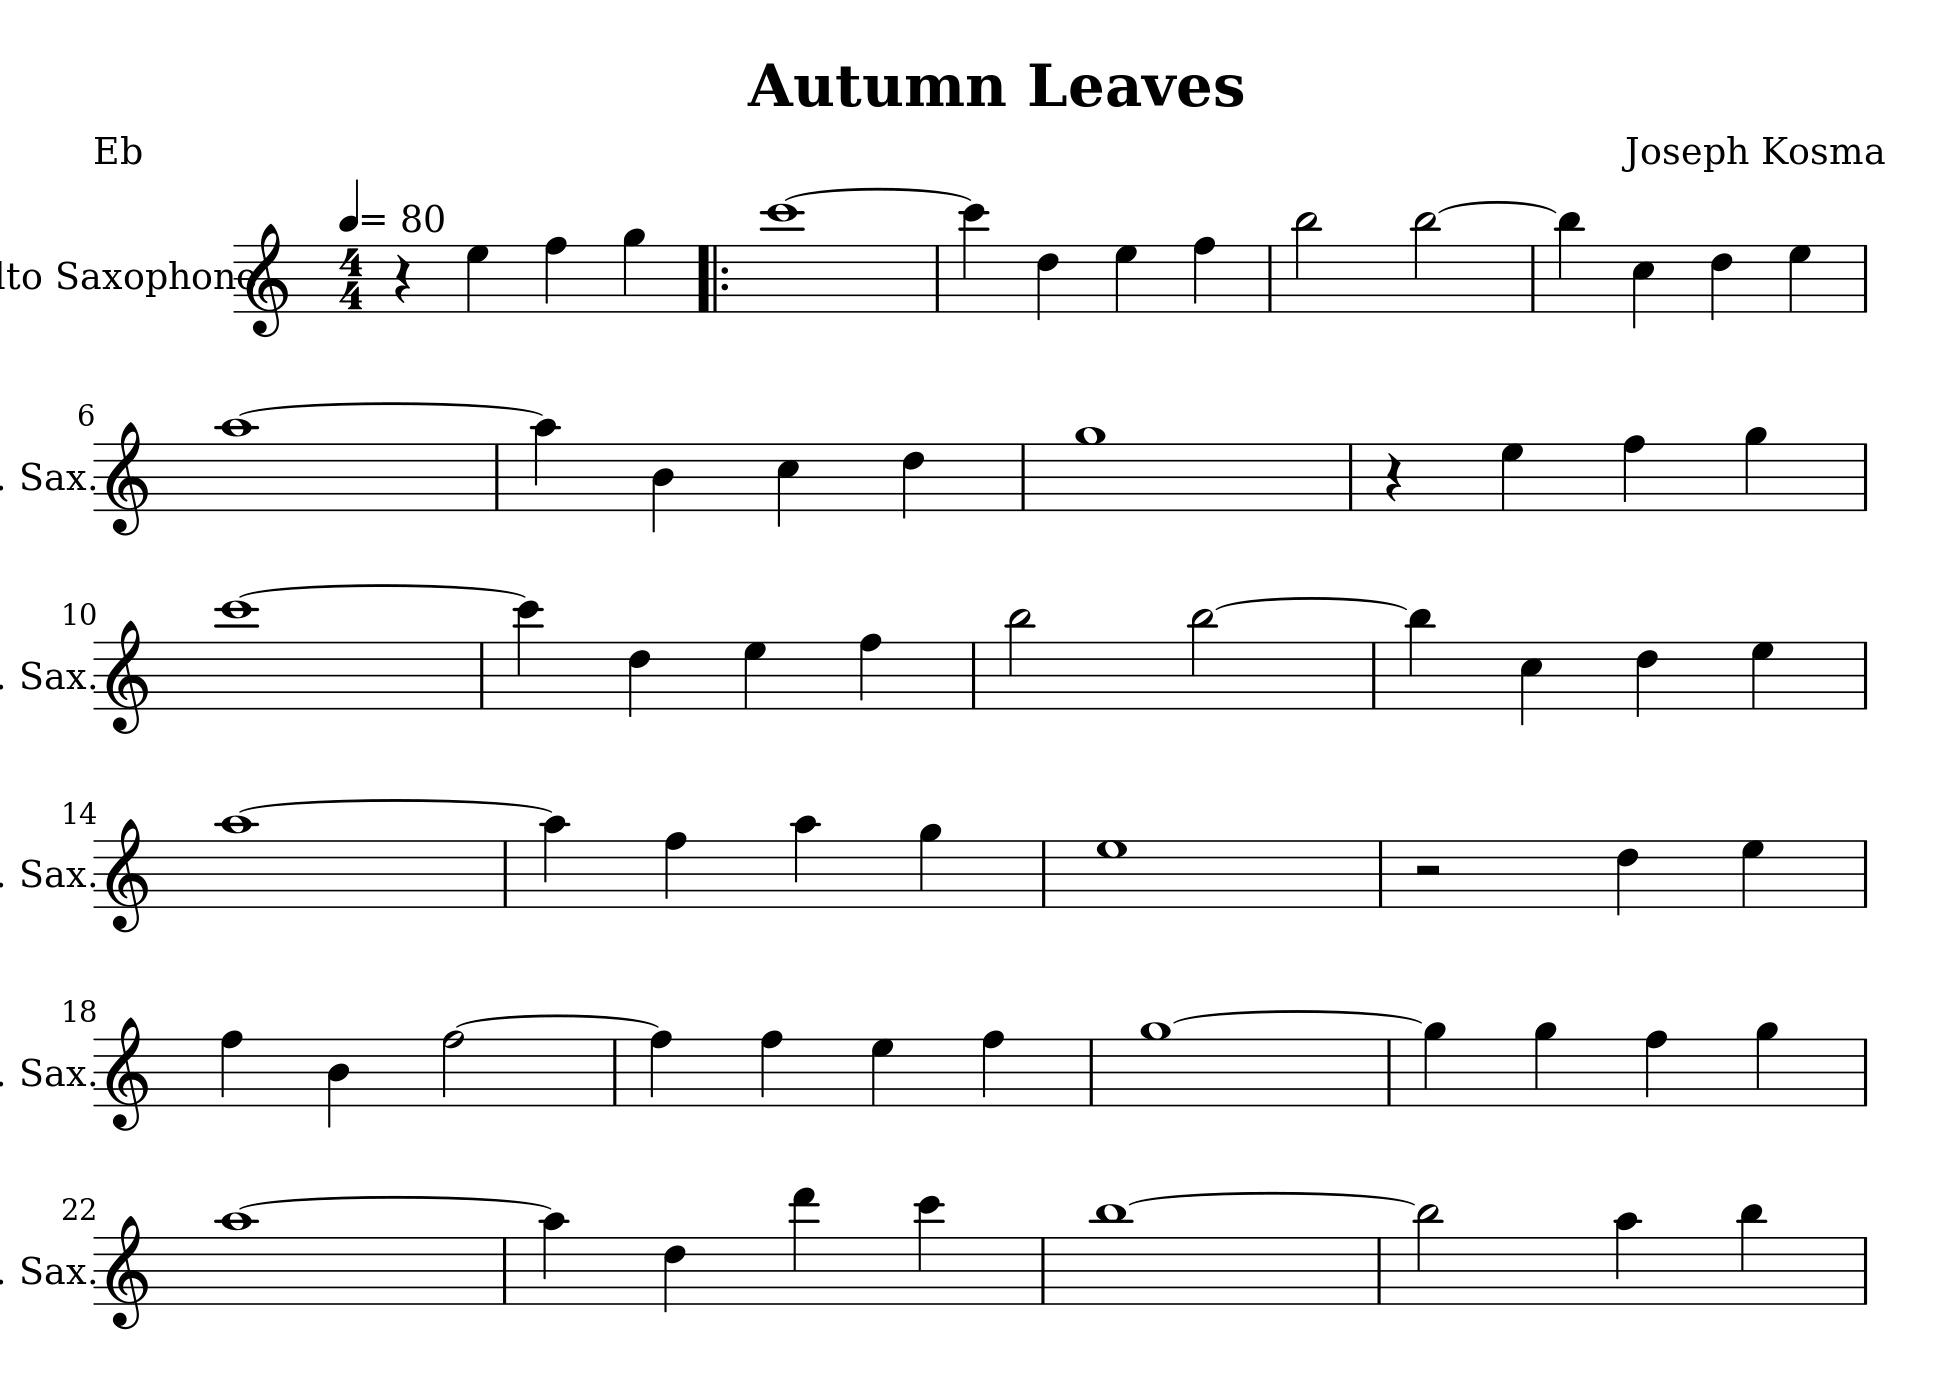0: (421, 199, 444, 235), (78, 601, 97, 628)
1: (61, 598, 75, 627), (61, 796, 75, 825), (63, 997, 76, 1024)
1_10: (217, 415, 255, 511), (219, 811, 255, 907), (219, 1210, 253, 1306)
1_11: (1092, 1200, 1128, 1306)
1_12: (762, 202, 802, 316), (217, 598, 256, 712)
1_7: (1095, 838, 1128, 909)
1_9: (1071, 423, 1107, 514), (1138, 1018, 1173, 1108)
2: (76, 1194, 96, 1221)
2_11: (1005, 607, 1035, 712), (1413, 1201, 1441, 1306), (1291, 211, 1320, 313), (1410, 211, 1438, 313), (1188, 607, 1215, 711)
2_8: (441, 1027, 465, 1107)
4: (336, 276, 369, 310), (337, 244, 367, 277), (78, 799, 97, 828)
4_10: (540, 811, 568, 909), (538, 1210, 567, 1306), (531, 417, 558, 514), (790, 811, 817, 907), (1612, 1209, 1639, 1305)
4_11: (1554, 208, 1582, 313), (1737, 1200, 1764, 1305), (1407, 607, 1432, 712)
4_12: (958, 202, 988, 313), (913, 1192, 942, 1306), (513, 598, 541, 711)
4_13: (789, 1186, 817, 1306)
4_4: (649, 439, 673, 532), (325, 1036, 349, 1128)
4_5: (774, 439, 801, 529), (1518, 639, 1543, 727), (1630, 241, 1656, 328)
4_6: (900, 439, 927, 520), (625, 639, 651, 718), (1633, 639, 1659, 718), (1614, 837, 1639, 916), (1035, 241, 1060, 319), (1710, 241, 1734, 322), (661, 1234, 685, 1314)
4_7: (741, 637, 769, 709), (463, 241, 490, 313), (1113, 241, 1140, 313), (1786, 241, 1813, 313), (1740, 837, 1767, 909), (868, 1035, 895, 1107), (1749, 639, 1776, 709), (1500, 439, 1525, 511)
4_8: (856, 631, 883, 712), (661, 828, 688, 909), (646, 1027, 673, 1108), (757, 1027, 784, 1108), (1642, 1027, 1669, 1108), (979, 1027, 1005, 1108), (543, 234, 568, 313), (1192, 234, 1218, 313), (1621, 432, 1647, 511), (219, 1027, 244, 1107)
4_9: (916, 820, 943, 909), (1753, 1018, 1779, 1108), (1422, 1020, 1447, 1108), (621, 226, 646, 313), (1533, 1018, 1557, 1107), (1743, 424, 1767, 511)
6: (78, 400, 94, 426)
8: (400, 199, 421, 234), (78, 997, 94, 1024)
Gclef: (102, 616, 151, 733), (244, 220, 292, 337), (103, 817, 151, 934), (103, 1012, 150, 1131), (103, 1213, 150, 1330), (105, 418, 148, 532)
Rests2: (1411, 859, 1446, 880)
Rests4: (391, 250, 412, 304), (1383, 450, 1404, 502)
RightRepeatSign: (694, 244, 730, 310)
Sax: (15, 654, 87, 694), (16, 852, 87, 892), (16, 1051, 87, 1092), (16, 1251, 87, 1290), (52, 255, 121, 294), (16, 456, 85, 495)
Single_barline: (1852, 1234, 1876, 1303), (925, 243, 949, 310), (604, 1036, 627, 1104), (1012, 442, 1035, 508), (1035, 838, 1056, 907), (1081, 1036, 1102, 1105), (964, 640, 985, 708), (1380, 1036, 1401, 1104), (472, 640, 493, 706), (1372, 838, 1392, 907), (1855, 1036, 1875, 1105), (496, 838, 516, 906), (1035, 1236, 1054, 1303), (1371, 1236, 1390, 1303), (1524, 244, 1543, 310), (1341, 442, 1360, 508), (1365, 642, 1384, 708), (495, 1236, 514, 1302), (1857, 838, 1875, 907), (1857, 442, 1875, 510), (1857, 640, 1875, 708), (487, 444, 505, 508), (1857, 244, 1873, 310)
Slur: (238, 1194, 550, 1213), (235, 796, 559, 814), (1131, 1189, 1413, 1207), (237, 400, 549, 415), (235, 583, 532, 598), (1171, 1009, 1417, 1026), (1216, 594, 1407, 613), (456, 1012, 658, 1030), (778, 186, 973, 202), (1437, 198, 1557, 214)
Speed4: (337, 175, 388, 232)
Speed_4=80: (336, 174, 447, 238)
TimeSig: (337, 243, 367, 310)
